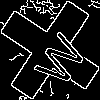W: (25, 25, 90, 90)
